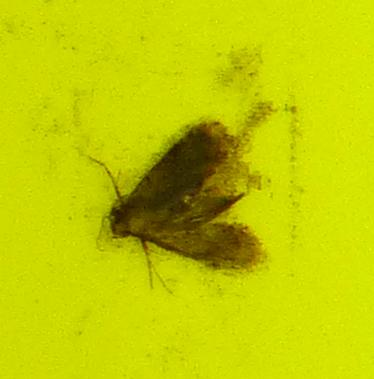Lepidoptera: (100, 100, 274, 279)
